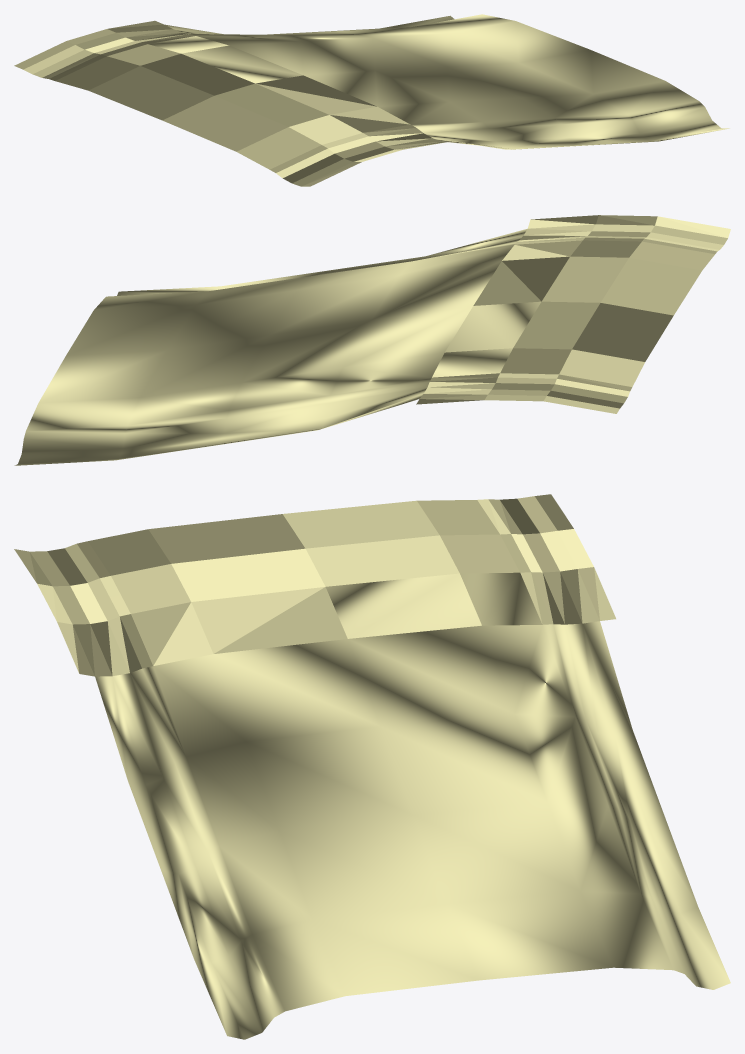
The model's file is tunnel_corner_b_07.glb.
3 renders of one model, top to bottom at view 1: azimuth 30°, elevation 25°; view 2: azimuth 150°, elevation 25°; view 3: azimuth 270°, elevation 25°, orthographic. The views are drawn at different scales.
Size of the model in its own units: 12.54 by 2.78 by 9.87.
